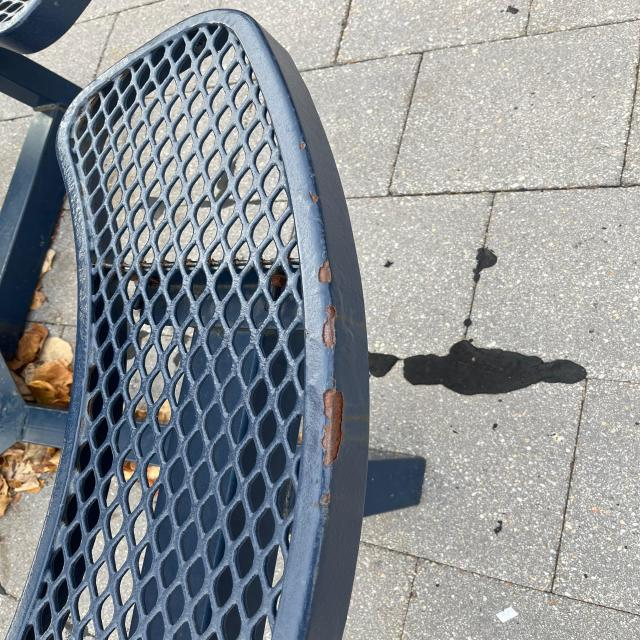Filiform Corrosion: (319, 389, 351, 466), (316, 303, 348, 360), (312, 253, 348, 294), (318, 487, 341, 516)
